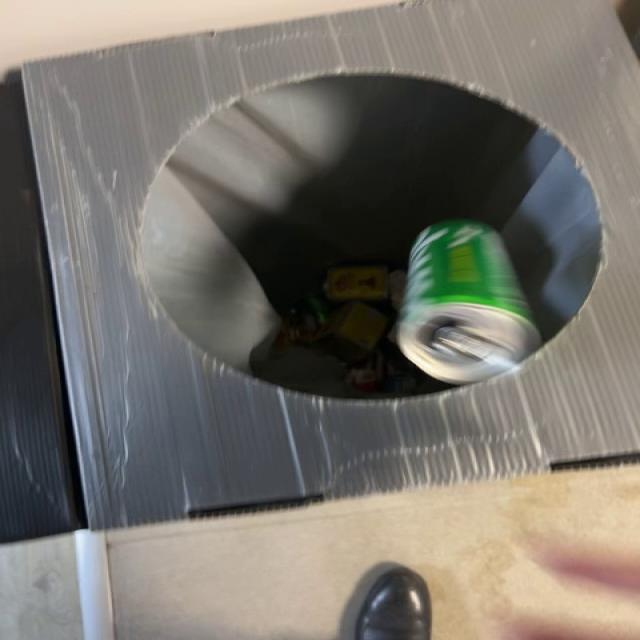bin: (23, 0, 639, 530)
metal: (397, 220, 541, 384)
